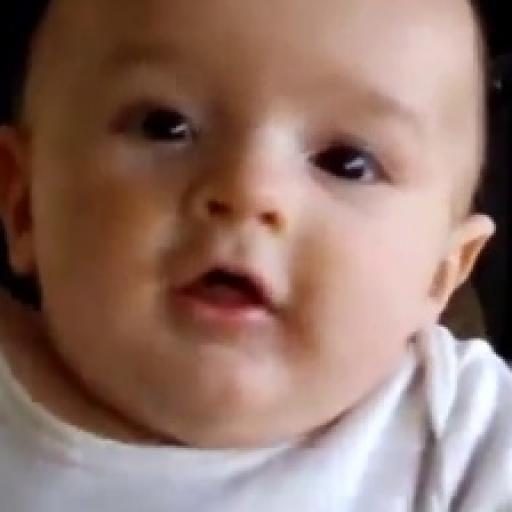Autism: (27, 5, 512, 460)
